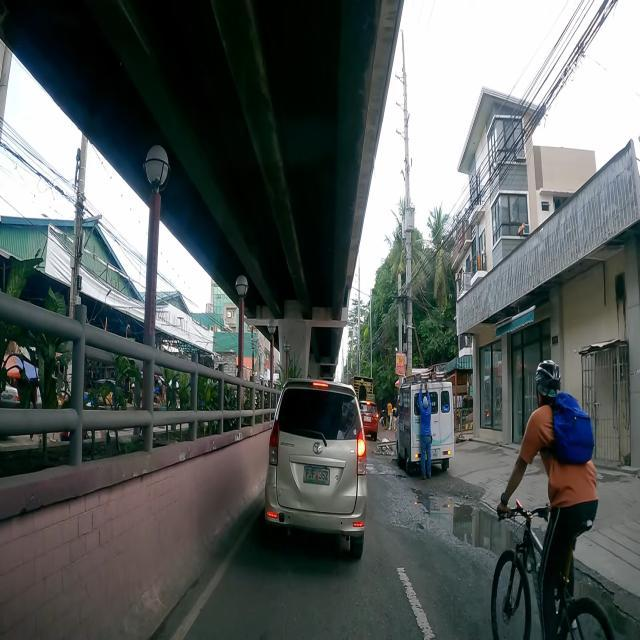bike: (491, 360, 614, 640)
car: (264, 378, 367, 558), (360, 400, 380, 440)
truck: (395, 375, 455, 478), (350, 376, 374, 400)
